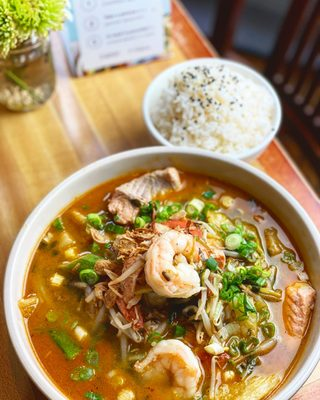sushi: (4, 145, 320, 399), (141, 57, 283, 163)
